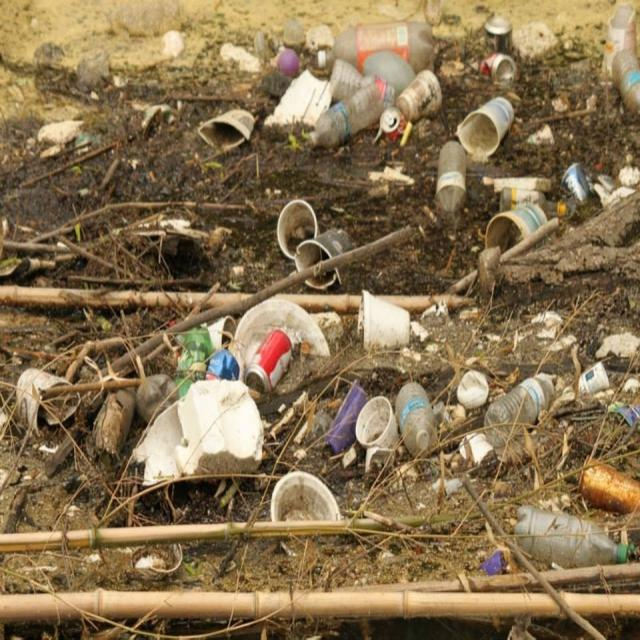garbage: (2, 6, 638, 581), (263, 19, 442, 150), (174, 378, 263, 477), (513, 503, 633, 568), (309, 77, 394, 149), (331, 19, 435, 74), (483, 372, 555, 449), (264, 69, 332, 130), (455, 95, 514, 160), (15, 367, 74, 432), (270, 469, 341, 523), (294, 227, 354, 290), (356, 288, 410, 352), (394, 380, 437, 458), (484, 202, 547, 254), (578, 462, 639, 515), (243, 328, 292, 392), (324, 380, 366, 454), (92, 384, 135, 456), (276, 198, 318, 260), (395, 68, 442, 123), (434, 138, 467, 214), (197, 108, 255, 151), (611, 48, 639, 113), (456, 368, 489, 408), (479, 51, 516, 86), (560, 162, 591, 202), (577, 360, 609, 396), (205, 348, 240, 380), (484, 15, 513, 53)
